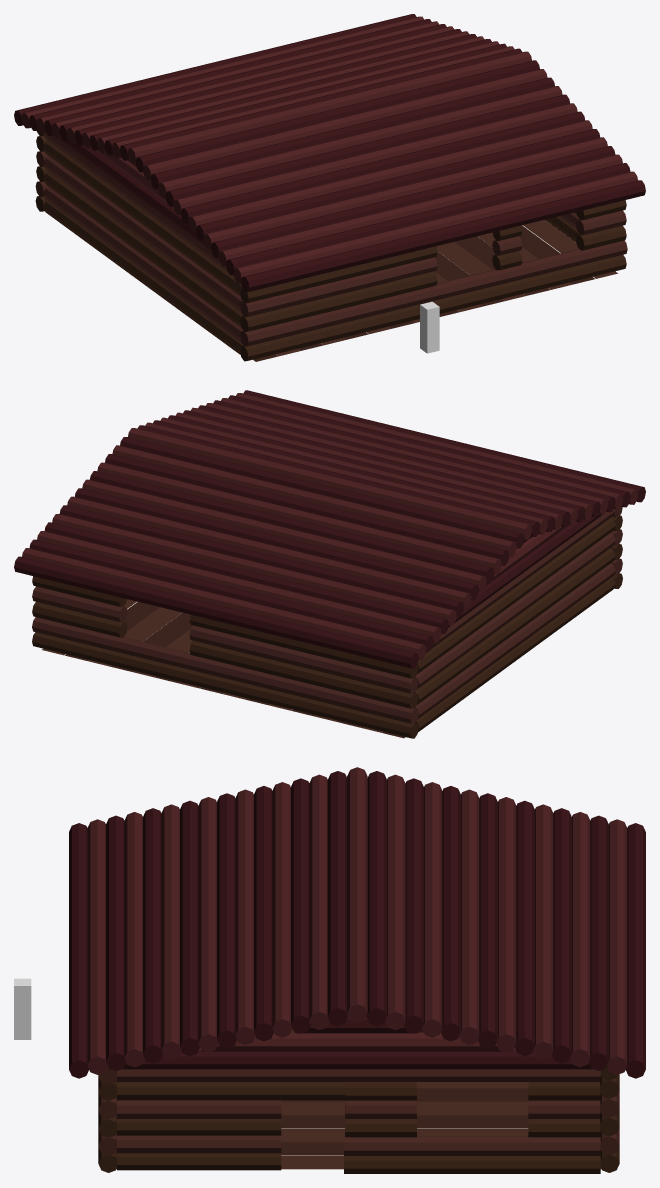
The model's file is Cabañafinal (1).fbx.
3 renders of one model, top to bottom at view 1: azimuth 30°, elevation 25°; view 2: azimuth 150°, elevation 25°; view 3: azimuth 270°, elevation 25°, orthographic. The views are drawn at different scales.
Visible parts, largest first — view 1: Cylinder.035, Cylinder.020, Cylinder.007, Suelo, Cylinder.001, Cube, Cylinder.002, Cylinder, Cylinder.009; view 2: Cylinder.035, Cylinder, Cylinder.007, Suelo, Cylinder.001, Cylinder.002, Cylinder.020; view 3: Cylinder.035, Cylinder.011, Cylinder.009, Suelo, Cylinder.006, Cylinder.005, Cylinder, Cylinder.020, Cube, Cylinder.004.
Part boxes in pixels (box(x1,y1,x2,y2)): Cylinder.035: box(14, 14, 645, 291); Cylinder.020: box(240, 200, 627, 361); Cylinder.007: box(43, 133, 243, 354); Suelo: box(253, 219, 617, 361); Cylinder.001: box(53, 135, 211, 250); Cube: box(420, 301, 439, 353); Cylinder.002: box(90, 147, 173, 208); Cylinder: box(35, 130, 48, 211); Cylinder.009: box(545, 212, 579, 242); Cylinder.035: box(14, 390, 645, 668); Cylinder: box(32, 576, 418, 738); Cylinder.007: box(415, 509, 615, 732); Suelo: box(42, 599, 405, 738); Cylinder.001: box(448, 511, 606, 627); Cylinder.002: box(486, 524, 569, 585); Cylinder.020: box(610, 506, 622, 588); Cylinder.035: box(69, 767, 645, 1078); Cylinder.011: box(344, 1069, 600, 1173); Cylinder.009: box(117, 1069, 345, 1170); Suelo: box(116, 1029, 601, 1169); Cylinder.006: box(122, 1050, 592, 1069); Cylinder.005: box(201, 1032, 512, 1051); Cylinder: box(600, 1066, 619, 1172); Cylinder.020: box(98, 1066, 117, 1172); Cube: box(14, 978, 31, 1039); Cylinder.004: box(295, 1016, 418, 1033).
Size of the model in its own units: 2732 by 949 by 3077.
